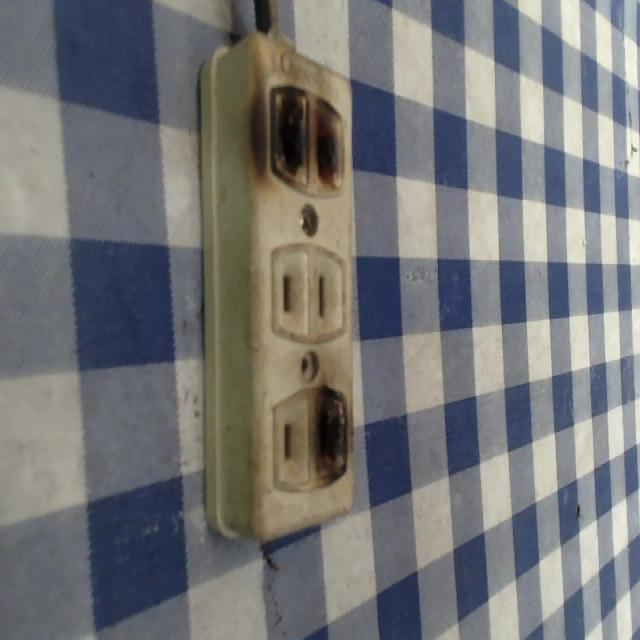-: (248, 75, 352, 206), (304, 377, 356, 495)
